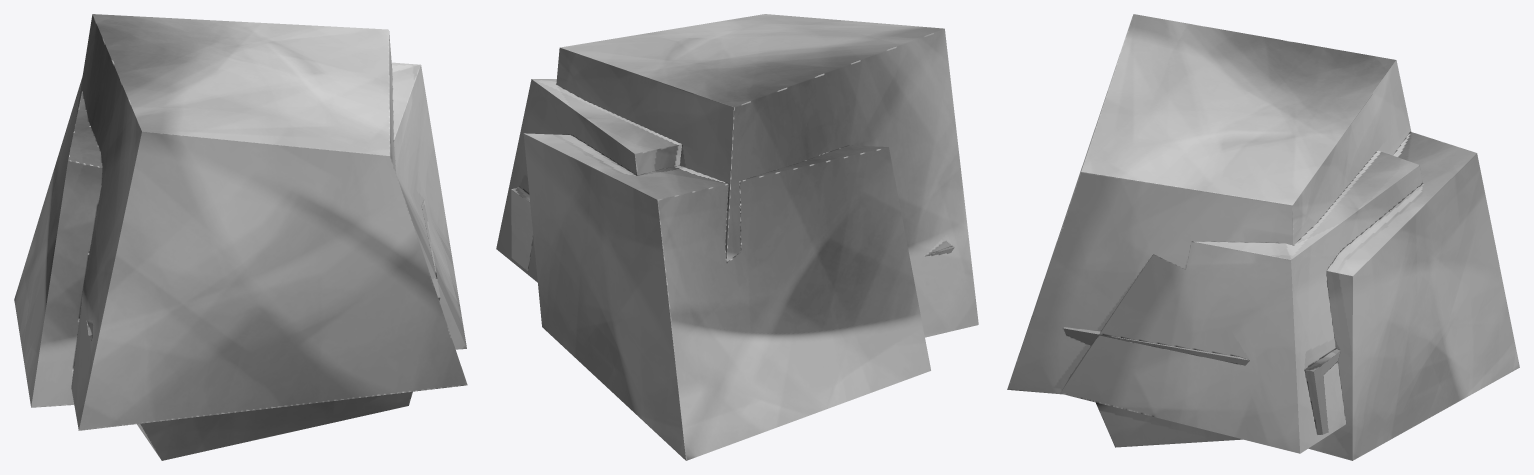
File: Chulnk.fbx
The picture shows the model from 3 angles, left to right: view 1: azimuth 30°, elevation 25°; view 2: azimuth 150°, elevation 25°; view 3: azimuth 270°, elevation 25°; orthographic projection. The views are drawn at different scales.
Visible parts, largest first — view 1: Chulnk; view 2: Chulnk; view 3: Chulnk.
Part boxes in pixels (<box>): Chulnk: <box>14,14,467,460</box>; Chulnk: <box>496,14,978,460</box>; Chulnk: <box>1007,14,1519,460</box>.
Size of the model in its own units: 2.2 by 2.1 by 1.69.
Materials: 1 (1 with a texture image).
